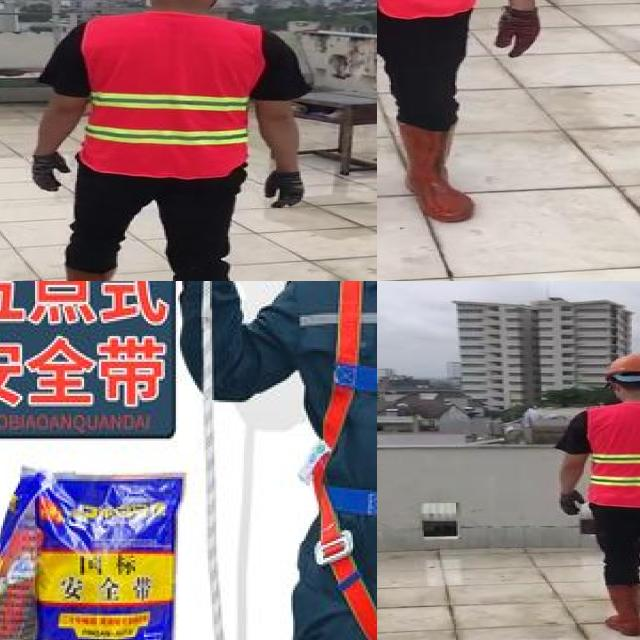Harness: (301, 281, 377, 640)
boots: (392, 119, 474, 223), (603, 583, 640, 634), (47, 261, 118, 281)
hand_glove: (498, 7, 540, 57), (267, 169, 305, 210), (29, 152, 66, 192), (558, 491, 588, 516)
head_helmet: (602, 353, 640, 376)
person: (13, 0, 311, 281), (377, 0, 570, 281), (553, 352, 640, 638)
vest: (80, 8, 262, 180), (585, 404, 640, 508)
